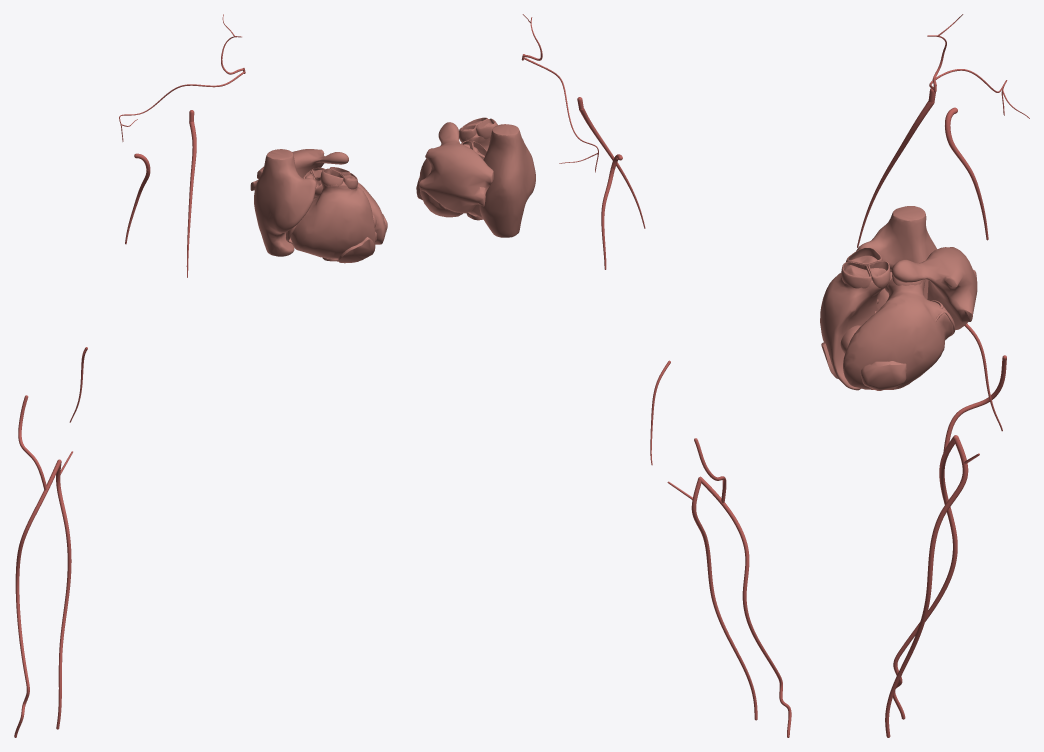
The model's file is thorax-3.glb.
3 views of the same model, side by side, from view 1: azimuth 30°, elevation 25°; view 2: azimuth 150°, elevation 25°; view 3: azimuth 270°, elevation 25° (orthographic). The views are drawn at different scales.
Visible parts, largest first — view 1: FJ2423, FJ2424, FJ2294, FJ2310, FJ2425, FJ2422; view 2: FJ2424, FJ2425, FJ2294, FJ2310, FJ2422; view 3: FJ2422, FJ2423, FJ2425, FJ2424, FJ2310, FJ2294, FJ2429, FJ2361, FJ2295, FJ2305, FJ2417, FJ2427 (+1 smaller).
Boxes of the visible parts, box(x1,y1,x2,y2) form: FJ2423: box(286, 175, 375, 258); FJ2424: box(254, 149, 316, 256); FJ2294: box(14, 459, 61, 737); FJ2310: box(56, 459, 71, 729); FJ2425: box(250, 149, 348, 190); FJ2422: box(305, 170, 385, 244); FJ2424: box(479, 124, 535, 237); FJ2425: box(419, 122, 493, 213); FJ2294: box(698, 476, 791, 737); FJ2310: box(691, 477, 757, 720); FJ2422: box(419, 144, 484, 217); FJ2422: box(843, 278, 952, 389); FJ2423: box(820, 255, 888, 390); FJ2425: box(891, 247, 977, 330); FJ2424: box(856, 206, 936, 298); FJ2310: box(885, 435, 968, 737); FJ2294: box(893, 435, 958, 719); FJ2429: box(860, 361, 906, 390); FJ2361: box(857, 101, 934, 247); FJ2295: box(943, 355, 1006, 452); FJ2305: box(946, 134, 988, 240); FJ2417: box(841, 261, 871, 288); FJ2427: box(868, 261, 890, 288).
Size of the model in its own units: 0.3541 by 0.6124 by 0.1366.
